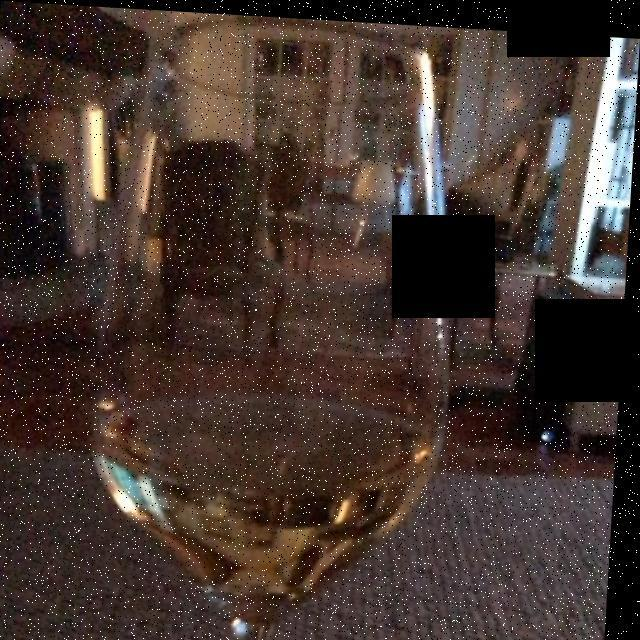wine: (122, 377, 424, 592)
